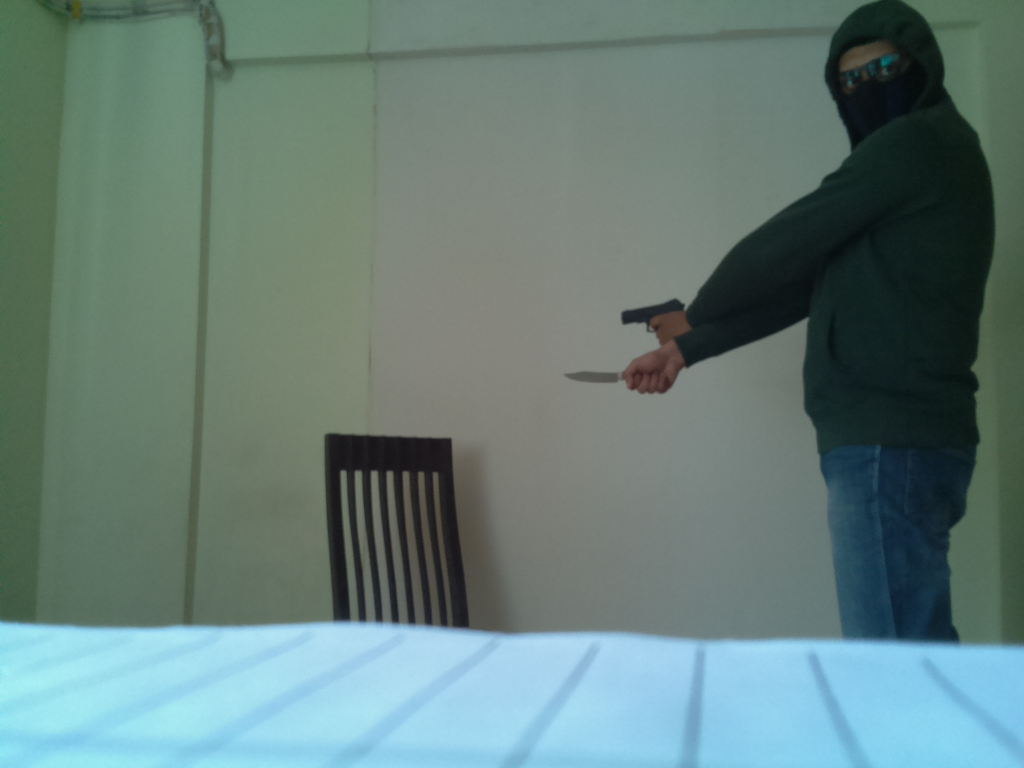gun: (610, 292, 690, 334)
knife: (559, 365, 642, 386)
